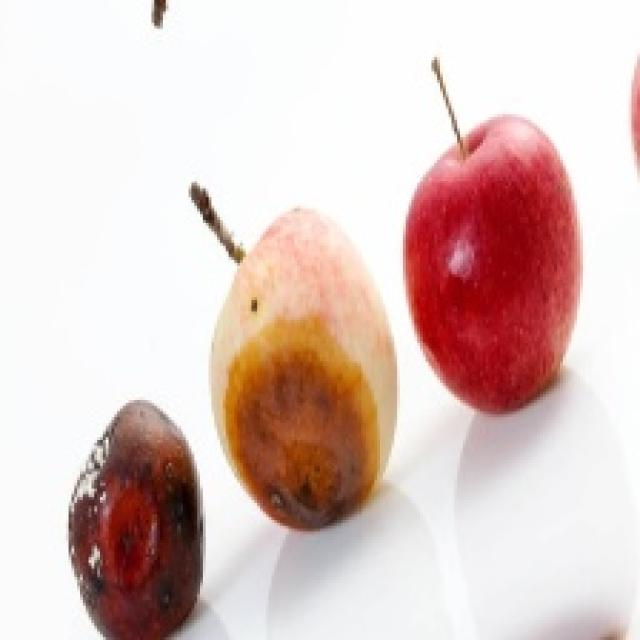rotten_apple: (210, 211, 398, 528), (66, 397, 200, 640)
